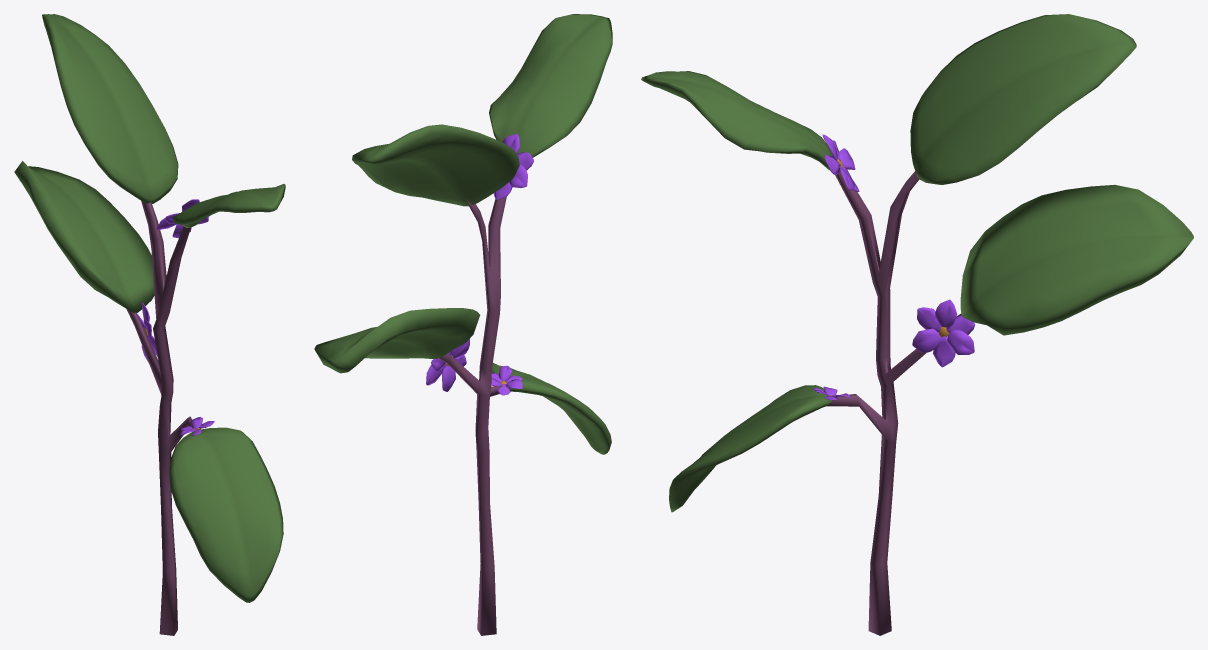
Rendered from eggplant_2.fbx.
3 renders of one model, left to right at view 1: azimuth 30°, elevation 25°; view 2: azimuth 150°, elevation 25°; view 3: azimuth 270°, elevation 25°, orthographic. The views are drawn at different scales.
Parts seen in each view (by area): view 1: Plane.003; view 2: Plane.003; view 3: Plane.003.
Part boxes in pixels (x1=…): Plane.003: x1=14, y1=14, x2=285, y2=635; Plane.003: x1=314, y1=14, x2=612, y2=635; Plane.003: x1=641, y1=14, x2=1193, y2=635.
Bounding box in the file's own units: 13.64 × 62.07 × 51.75.
